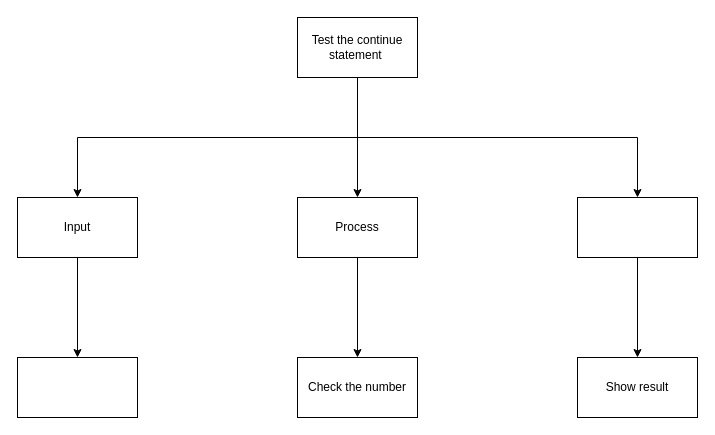
Image size: 715x435. Some labels were removed from this diagram. The centre of each missing label's shape, as x and y in pixels:
"Ask for a positive number" goes at pixel 77 387.
"Output" goes at pixel 637 227.
